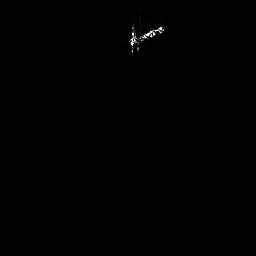ship: (130, 26, 163, 47)
